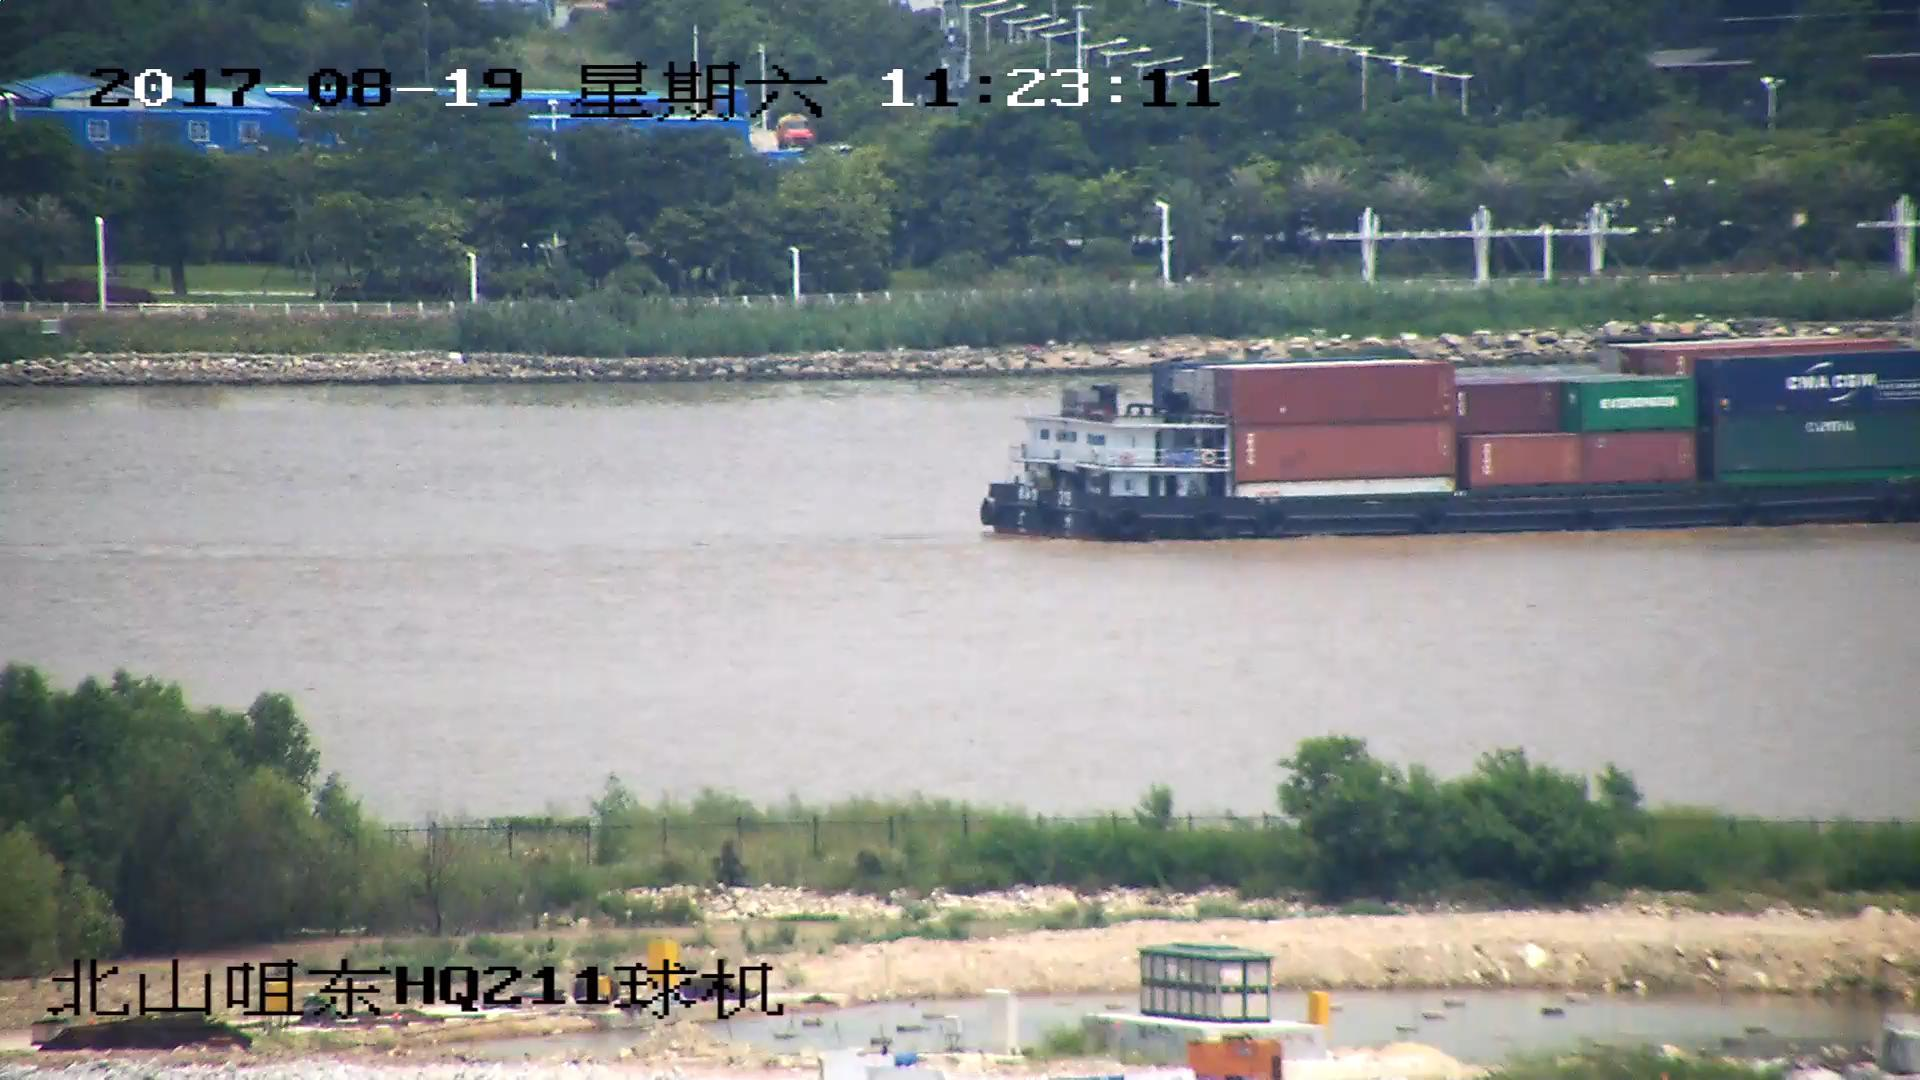Ship: (975, 334, 1920, 539)
